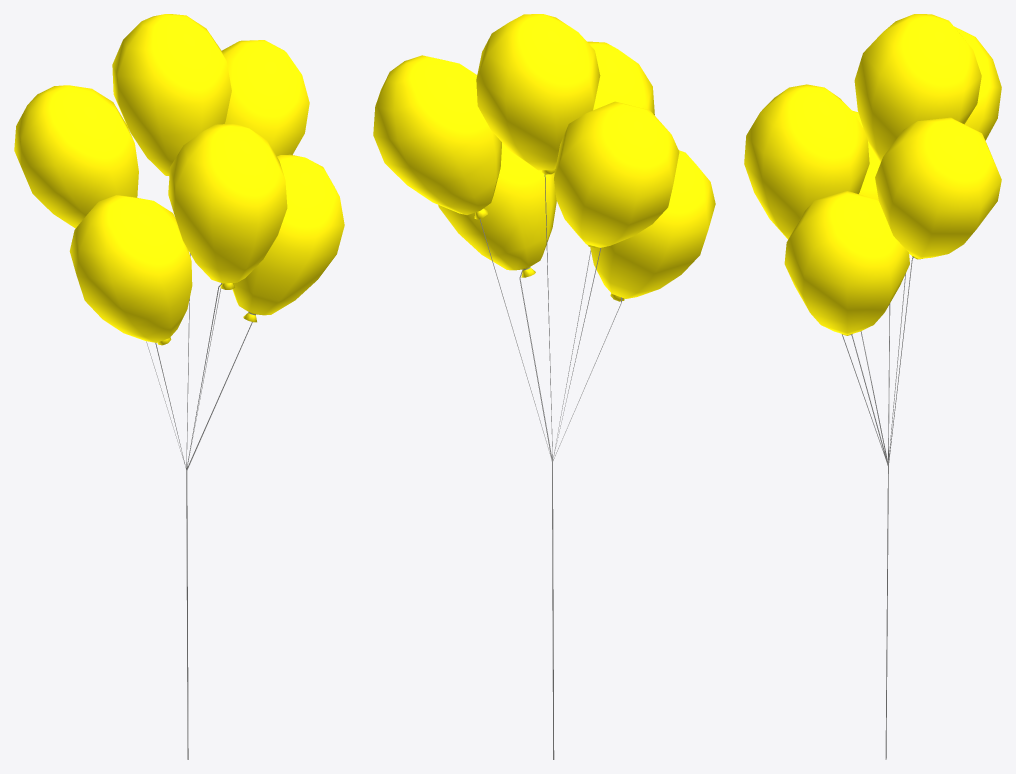
Rendered from BalloonBunchYellow.glb.
The picture shows the model from 3 angles, left to right: view 1: azimuth 30°, elevation 25°; view 2: azimuth 150°, elevation 25°; view 3: azimuth 270°, elevation 25°; orthographic projection. The views are drawn at different scales.
Visible parts, largest first — view 1: BalloonBunchYellow; view 2: BalloonBunchYellow; view 3: BalloonBunchYellow.
Part boxes in pixels (x1,y1,x2,y2): BalloonBunchYellow: (14, 14, 344, 759); BalloonBunchYellow: (373, 14, 715, 759); BalloonBunchYellow: (744, 14, 1001, 759).
Size of the model in its own units: 1.32 by 3.26 by 1.03.
1 material, 1 textured.
